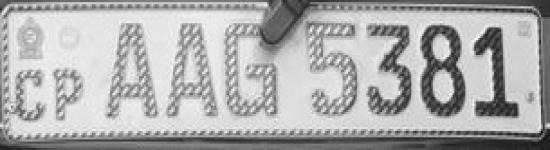1: (470, 16, 527, 127)
3: (361, 16, 416, 123)
5: (299, 14, 361, 124)
8: (418, 19, 470, 120)
A: (99, 15, 164, 124), (165, 17, 222, 126)
C: (13, 64, 47, 126)
G: (222, 16, 282, 124)
P: (48, 64, 89, 127)
